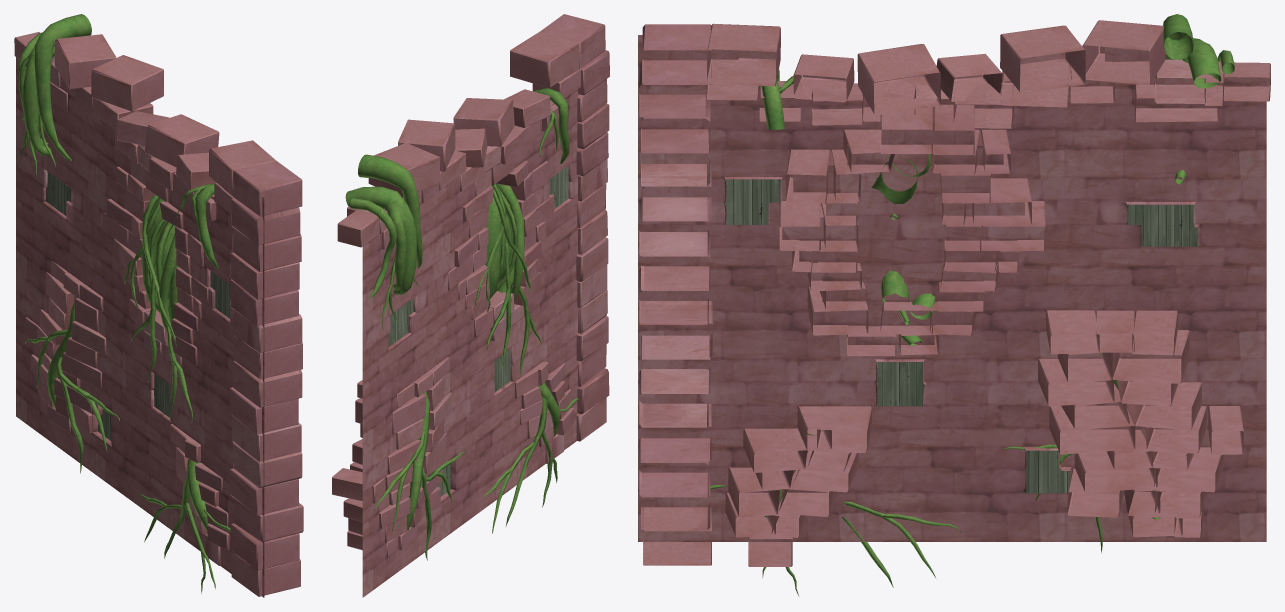
File: SM_ENV_KNFRST_Wall_Bc.FBX
3 views of the same model, side by side, from view 1: azimuth 30°, elevation 25°; view 2: azimuth 150°, elevation 25°; view 3: azimuth 270°, elevation 25° (orthographic). The views are drawn at different scales.
Parts seen in each view (by area): view 1: SM_ENV_KNFRST_Wall_Bc; view 2: SM_ENV_KNFRST_Wall_Bc; view 3: SM_ENV_KNFRST_Wall_Bc.
Part boxes in pixels (x1,y1,x2,y2): SM_ENV_KNFRST_Wall_Bc: (14, 14, 303, 597); SM_ENV_KNFRST_Wall_Bc: (332, 14, 609, 597); SM_ENV_KNFRST_Wall_Bc: (638, 14, 1270, 596).
Size of the model in its own units: 415 by 2487 by 2429.
